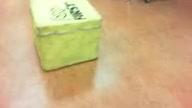cube: (28, 1, 104, 73)
